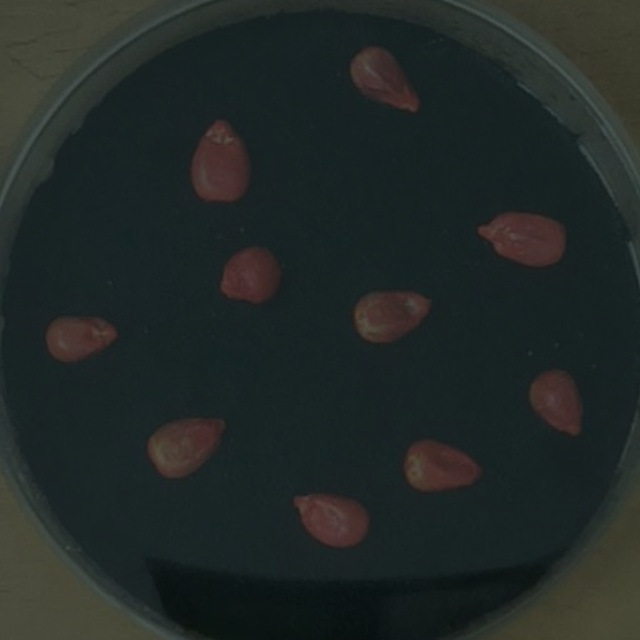Zea mays: (139, 406, 237, 488), (183, 109, 260, 211), (469, 201, 575, 275), (341, 38, 429, 120), (394, 428, 489, 499), (285, 482, 378, 554), (346, 282, 441, 352), (519, 361, 593, 443), (210, 237, 288, 311), (39, 305, 126, 369)
